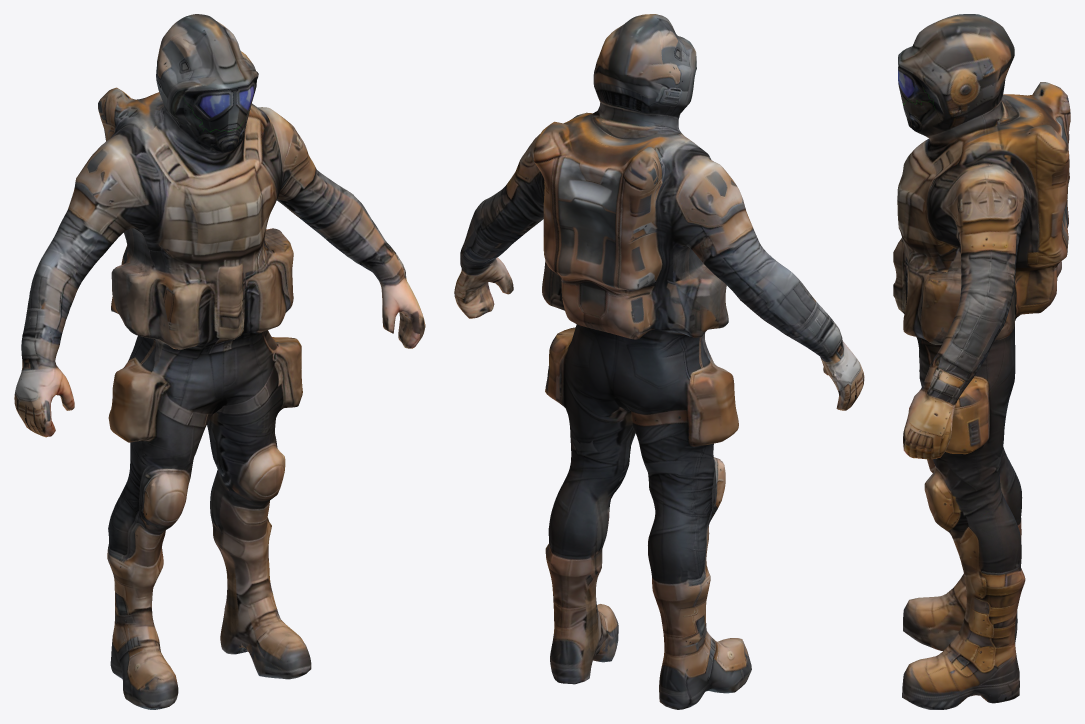
The model's file is sci_fi_rogue_unit_s_0709125925_refine.fbx.
3 renders of one model, left to right at view 1: azimuth 30°, elevation 25°; view 2: azimuth 150°, elevation 25°; view 3: azimuth 270°, elevation 25°, orthographic.
Visible parts, largest first — view 1: Mesh_0; view 2: Mesh_0; view 3: Mesh_0.
Part boxes in pixels (x1,y1,x2,y2): Mesh_0: (14, 14, 425, 709); Mesh_0: (454, 14, 864, 709); Mesh_0: (893, 14, 1070, 709).
Size of the model in its own units: 75.02 by 120 by 29.46.
Materials: 1 (1 with a texture image).
